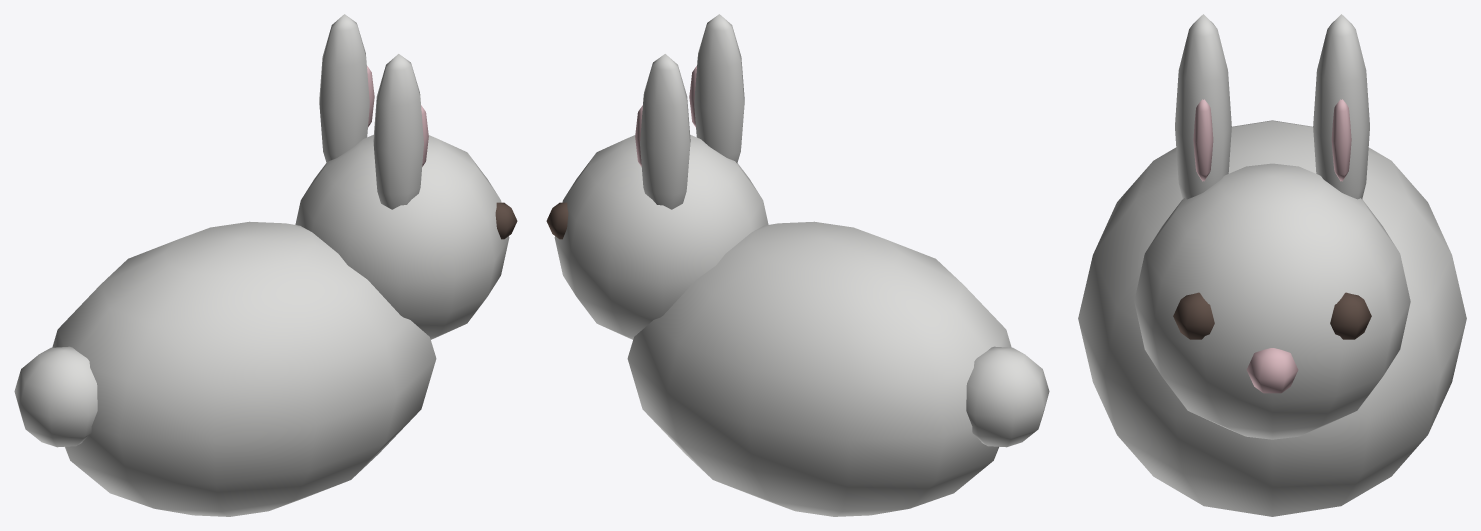
Rendered from rabbit.glb.
3 renders of one model, left to right at view 1: azimuth 30°, elevation 25°; view 2: azimuth 150°, elevation 25°; view 3: azimuth 270°, elevation 25°, orthographic. The views are drawn at different scales.
Visible parts, largest first — view 1: Rabbit; view 2: Rabbit; view 3: Rabbit.
Boxes of the visible parts, x1,y1,x2,y2 form: Rabbit: [14, 14, 517, 516]; Rabbit: [546, 14, 1049, 516]; Rabbit: [1078, 14, 1466, 516].
Size of the model in its own units: 0.1662 by 0.1413 by 0.09.
